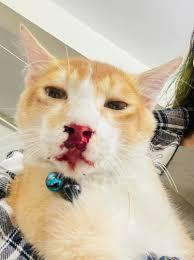bleeding: (34, 118, 106, 170)
